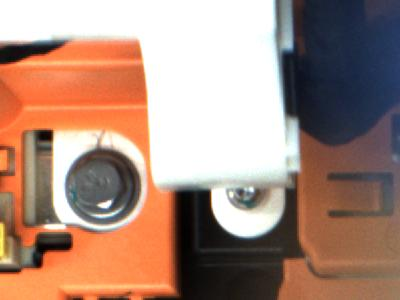nut_b: (64, 150, 144, 227)
